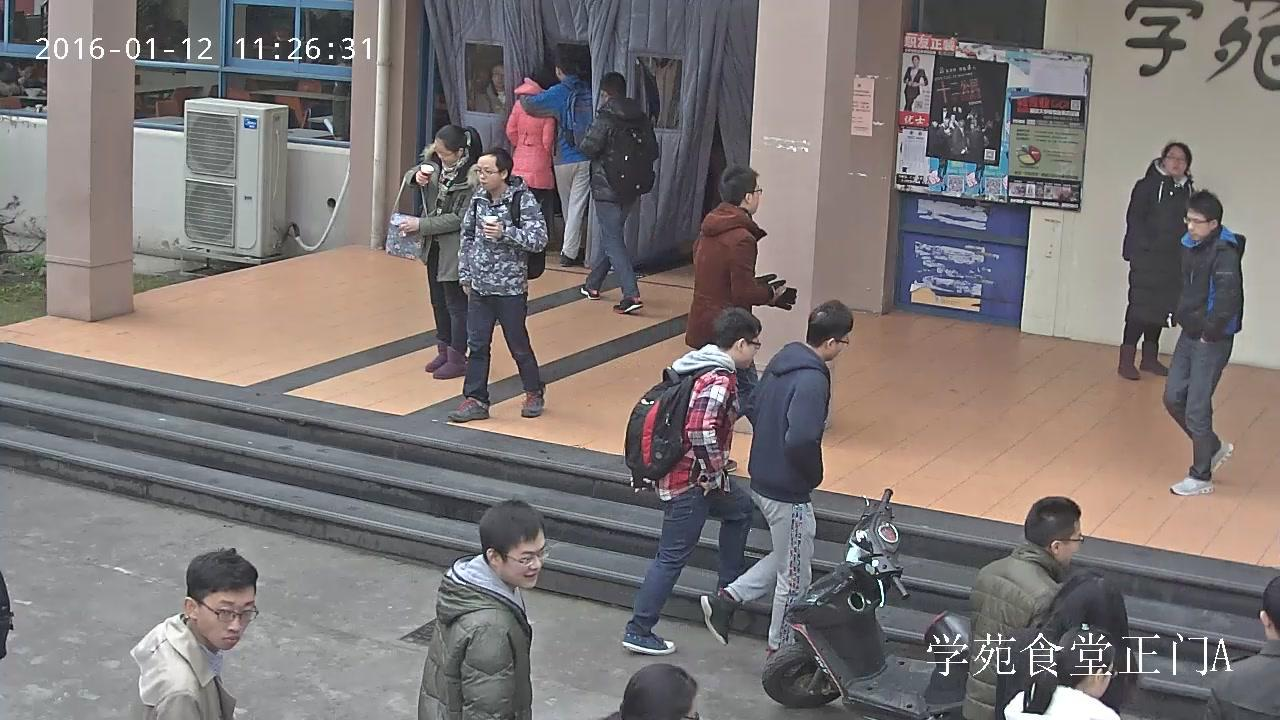person: (699, 298, 854, 654), (621, 307, 756, 656), (684, 166, 800, 427), (417, 500, 550, 720), (445, 147, 550, 421), (960, 495, 1087, 720), (1159, 189, 1245, 497), (385, 122, 487, 379), (130, 548, 260, 720), (996, 569, 1138, 720), (1115, 142, 1197, 381), (578, 70, 658, 313), (520, 56, 595, 265), (1198, 575, 1280, 720), (1004, 626, 1125, 720), (504, 67, 560, 249), (474, 62, 505, 112), (902, 54, 927, 111), (0, 58, 36, 96)
